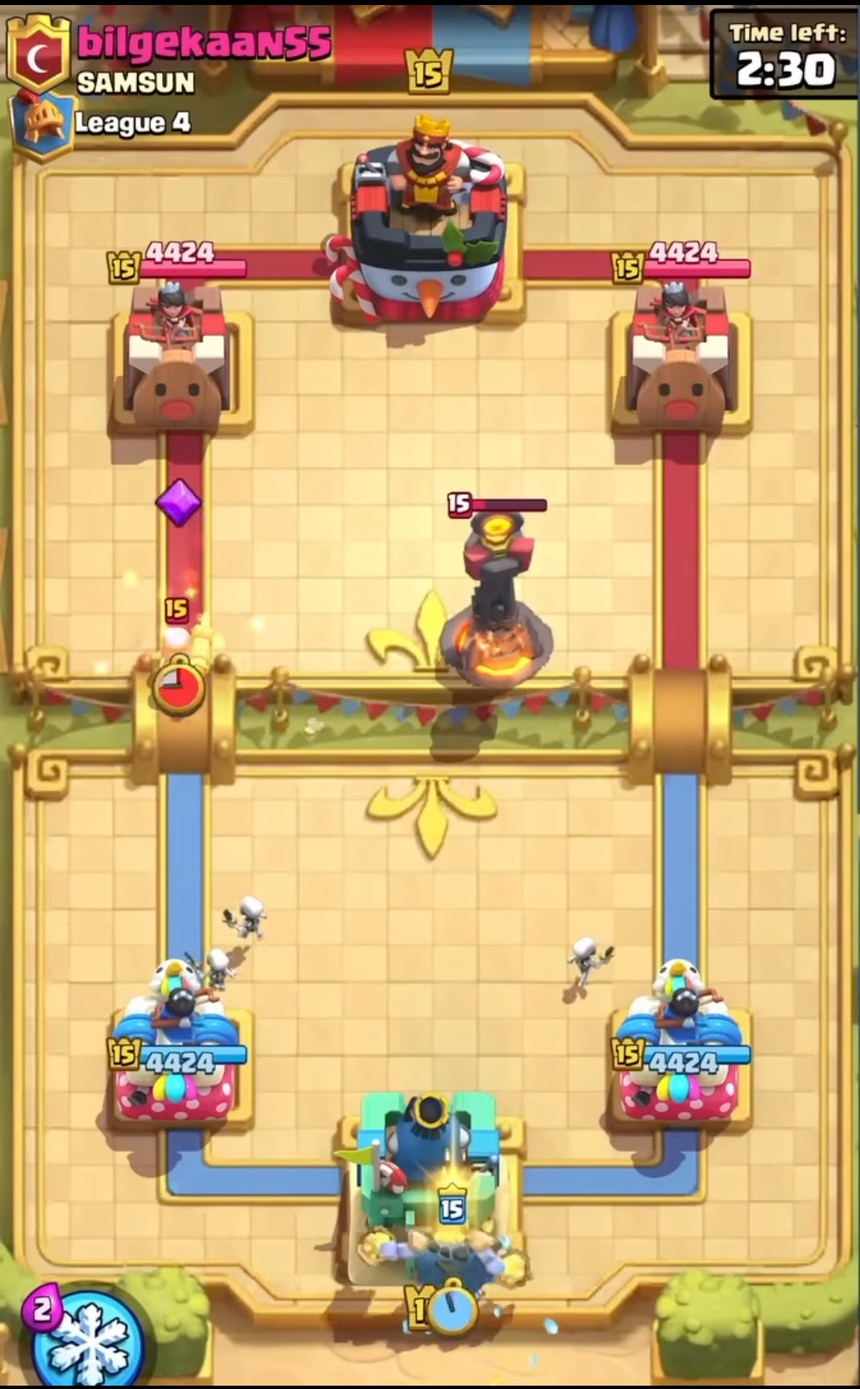hero_ice_golem: (362, 1193, 527, 1323)
skeletons: (557, 927, 622, 996), (217, 891, 274, 947), (181, 945, 240, 995)
